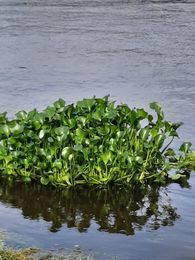water_hyacinth: (1, 94, 195, 186)
